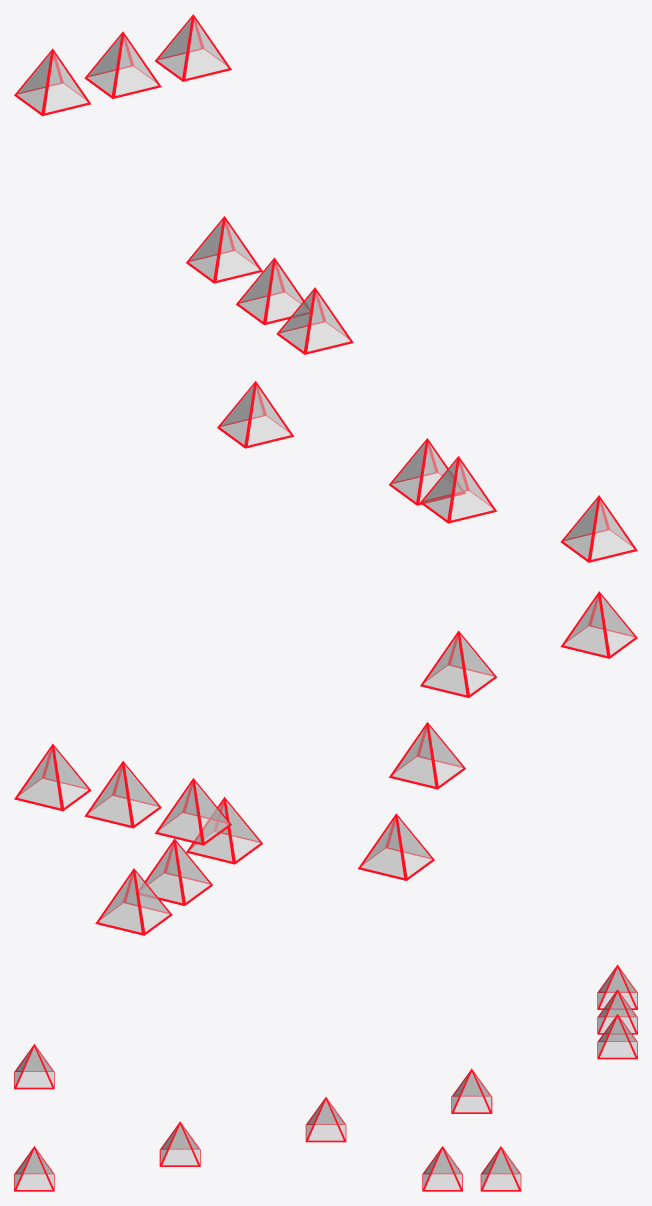
Rendered from (5)M Spike.fbx.
3 views of the same model, one above another, from view 1: azimuth 30°, elevation 25°; view 2: azimuth 150°, elevation 25°; view 3: azimuth 270°, elevation 25° (orthographic). The views are drawn at different scales.
Visible parts, largest first — view 1: Spike..008, Spike..010, Spike..002, Spike..005, Spike..007, Spike..004, Spike..009, Spike..001, Spike..006, Spike..003; view 2: Spike..001, Spike..006, Spike..008, Spike..010, Spike..002, Spike..004, Spike..009, Spike..003, Spike..005, Spike..007; view 3: Spike..004, Spike..006, Spike..001, Spike..009, Spike..003, Spike..002, Spike..005, Spike..007, Spike..010, Spike..008.
Part boxes in pixels (x1,y1,x2,y2): Spike..008: [84, 31, 161, 98]; Spike..010: [14, 48, 91, 116]; Spike..002: [560, 495, 637, 562]; Spike..005: [276, 287, 353, 354]; Spike..007: [186, 216, 262, 283]; Spike..004: [217, 381, 293, 448]; Spike..009: [155, 14, 231, 81]; Spike..001: [420, 456, 496, 523]; Spike..006: [236, 257, 309, 325]; Spike..003: [389, 438, 465, 505]; Spike..001: [560, 591, 637, 658]; Spike..006: [95, 868, 172, 935]; Spike..008: [84, 761, 161, 828]; Spike..010: [155, 778, 231, 845]; Spike..002: [420, 630, 497, 697]; Spike..004: [358, 813, 434, 880]; Spike..009: [14, 744, 91, 811]; Spike..003: [389, 722, 465, 789]; Spike..005: [139, 838, 212, 905]; Spike..007: [186, 797, 262, 864]; Spike..004: [305, 1097, 346, 1142]; Spike..006: [480, 1146, 521, 1191]; Spike..001: [14, 1044, 54, 1089]; Spike..009: [597, 1014, 637, 1059]; Spike..003: [159, 1121, 200, 1166]; Spike..002: [14, 1146, 54, 1191]; Spike..005: [422, 1146, 462, 1191]; Spike..007: [451, 1068, 492, 1113]; Spike..010: [597, 964, 637, 1009]; Spike..008: [597, 989, 637, 1034].
Size of the model in its own units: 540 by 640 by 2140.
